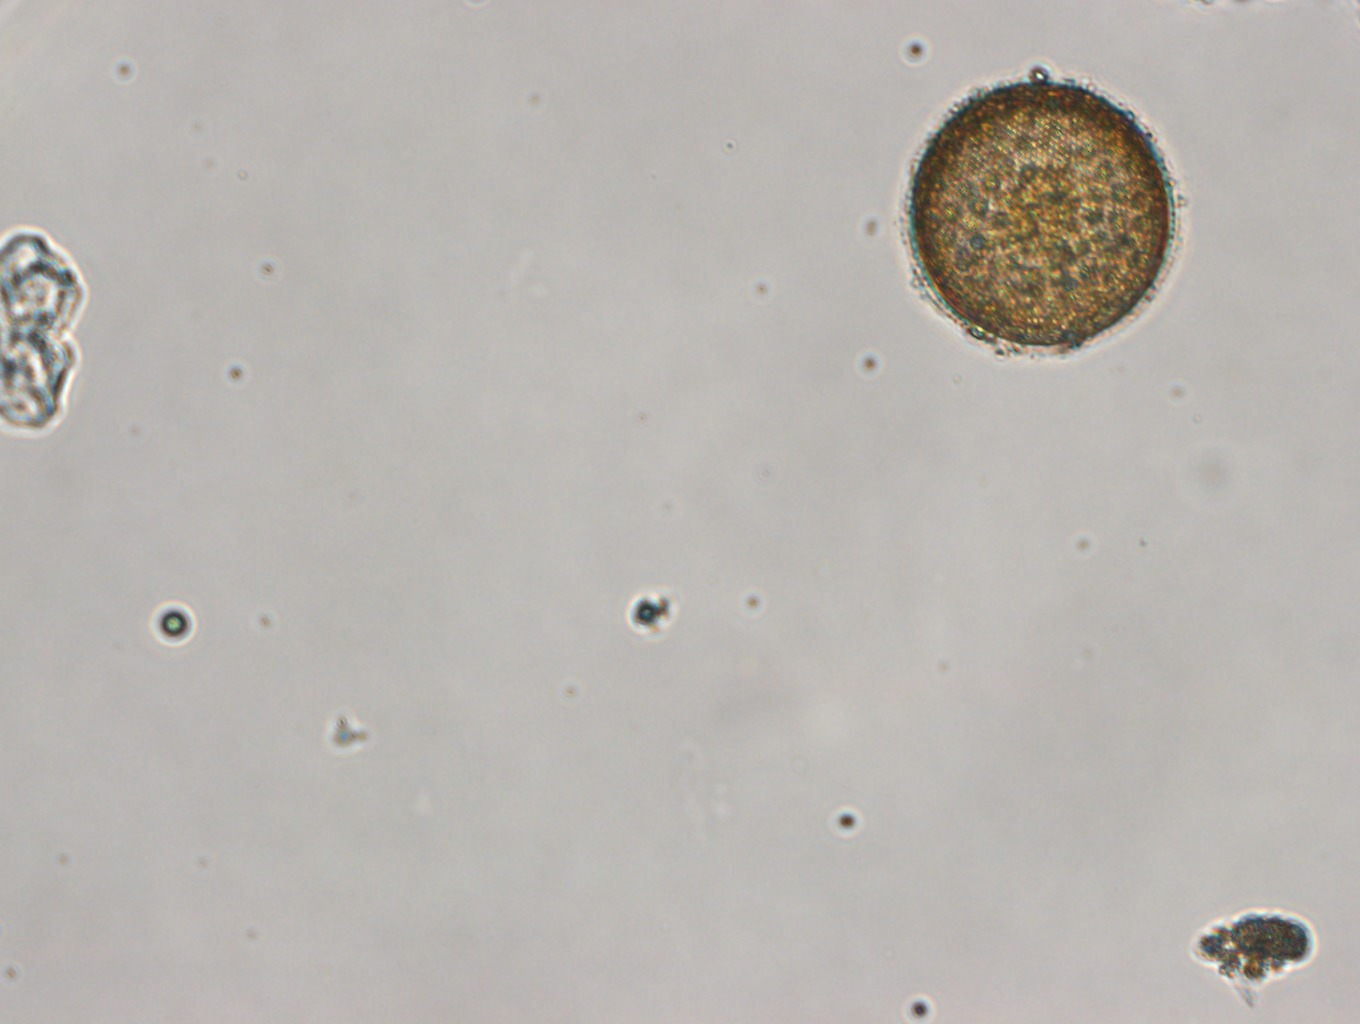coscinodiscus: (905, 76, 1178, 352)
